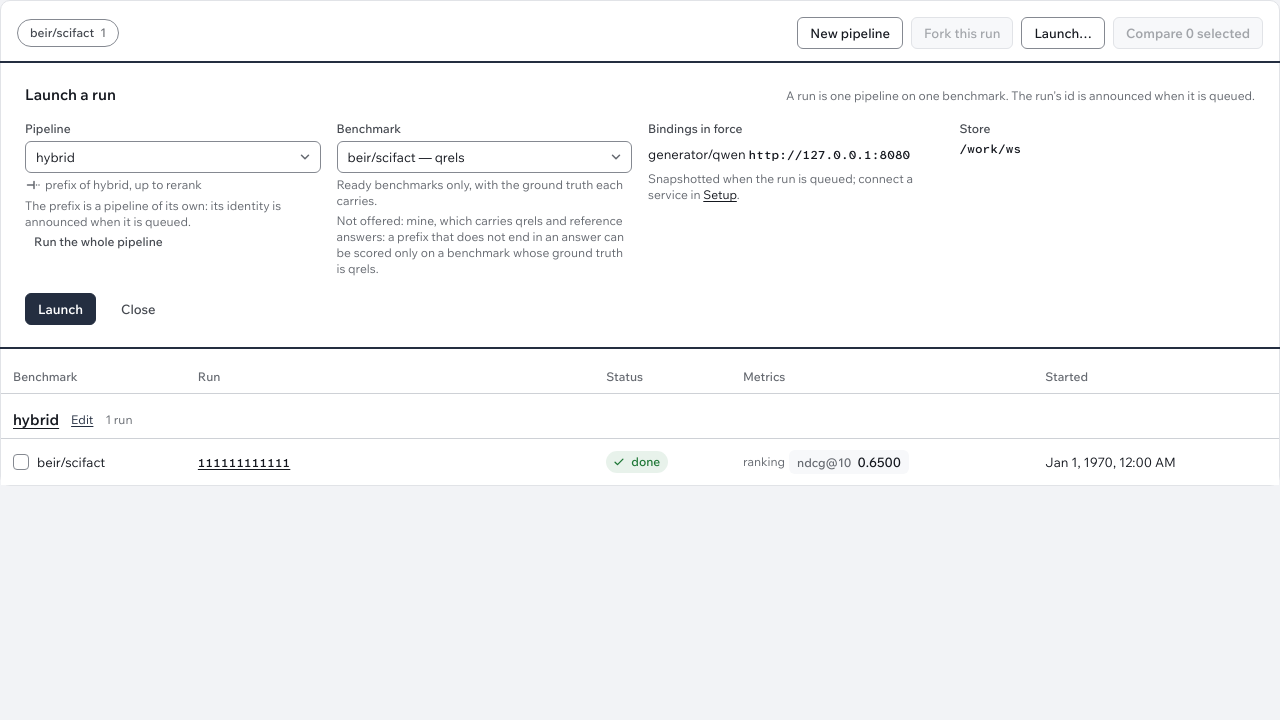
it: the launch panel up to a node › shows a refused cut on the pipeline field, naming the node
Check: the text "prefix of hybrid, up to rerank" is shown, box 25,177 -> 202,193
Click the button "Launch" at (60, 309), box 25,293 -> 96,325
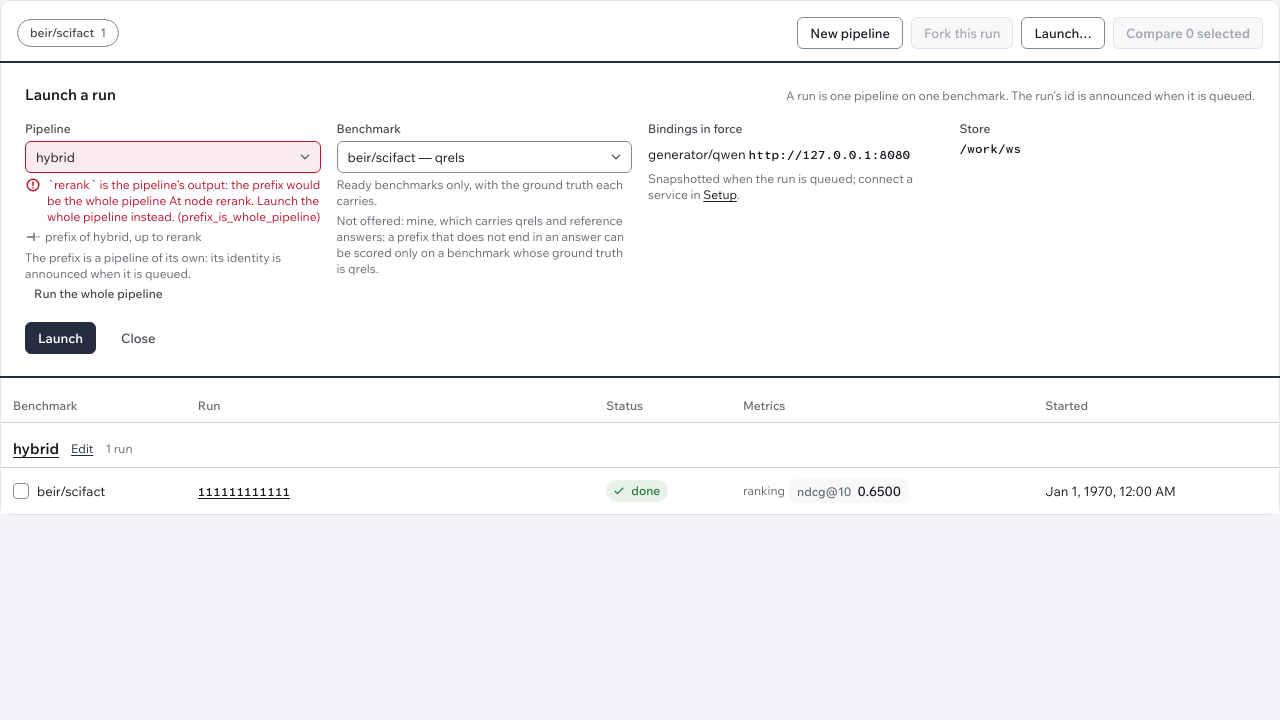
Check: the text "the prefix would be the whole pipeline" shows "At node rerank.", box 47,177 -> 320,224
